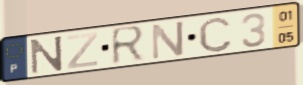3: (240, 11, 267, 49)
C: (196, 15, 234, 54)
N: (29, 34, 66, 76), (150, 19, 186, 62)
R: (109, 24, 148, 68)
Z: (65, 30, 100, 71)
